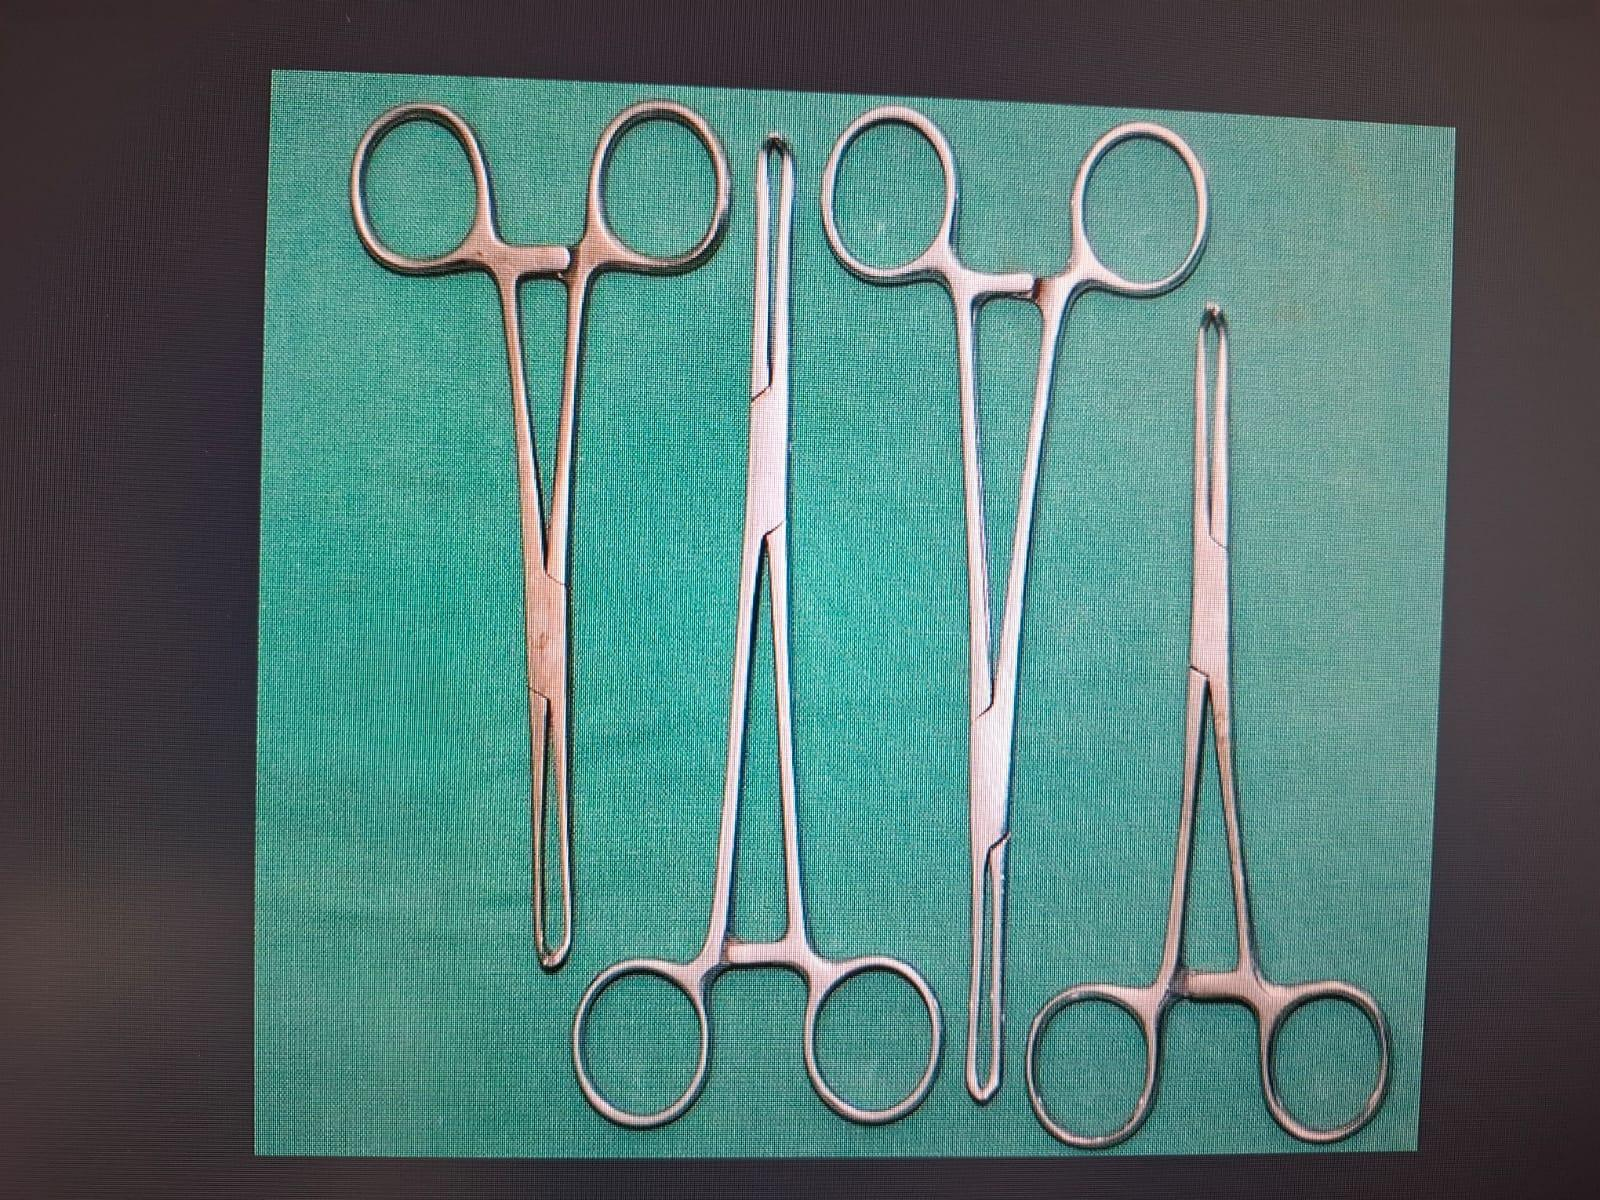Allis Forceps: (804, 98, 1274, 1118), (556, 126, 963, 1134), (333, 88, 738, 976), (1008, 296, 1412, 1152)
